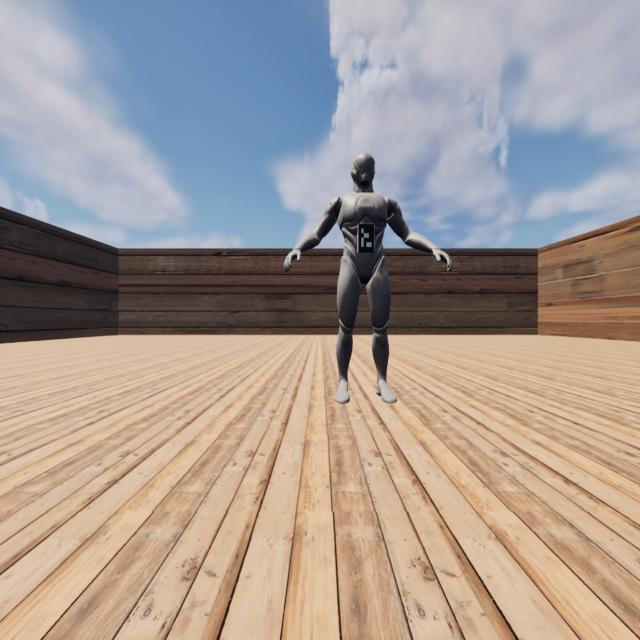aruco: (359, 224, 374, 253)
hip: (340, 256, 386, 266)
